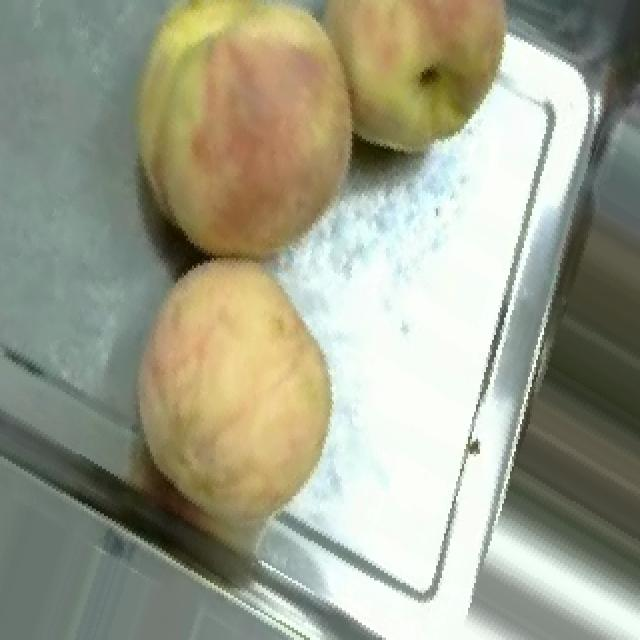Fruit: (92, 226, 370, 548), (100, 0, 390, 293), (288, 0, 542, 189)
